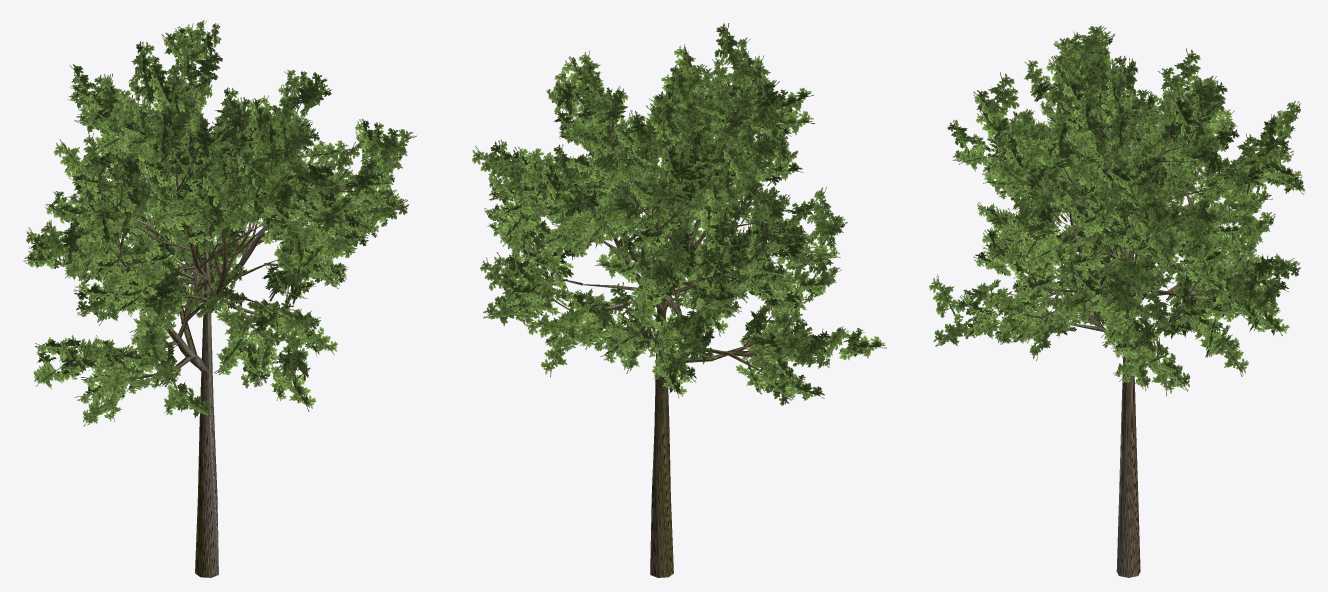
Rendered from street2.glb.
3 views of the same model, side by side, from view 1: azimuth 30°, elevation 25°; view 2: azimuth 150°, elevation 25°; view 3: azimuth 270°, elevation 25° (orthographic). The views are drawn at different scales.
Parts seen in each view (by area): view 1: leaves, bark; view 2: leaves, bark; view 3: leaves, bark.
Part boxes in pixels (x1,y1,x2,y2): leaves: (23, 20, 416, 426); bark: (76, 52, 380, 577); leaves: (472, 23, 886, 405); bark: (505, 84, 797, 577); leaves: (929, 25, 1305, 396); bark: (1006, 75, 1267, 577).
Size of the model in its own units: 6.39 by 8 by 5.44.
Materials: 2 (2 with a texture image).
